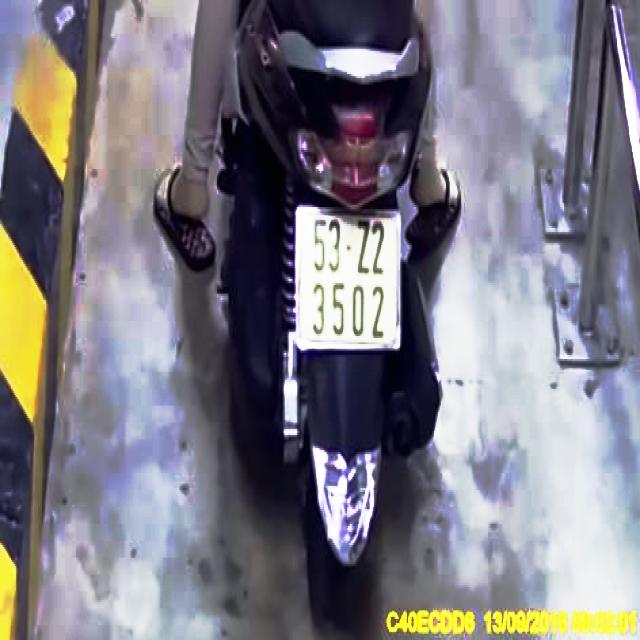license_plate: (297, 207, 403, 351)
